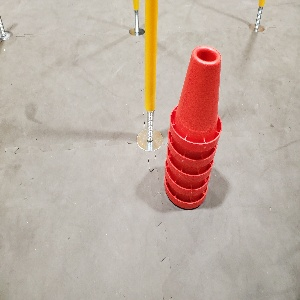Red_5: (163, 44, 221, 210), (164, 123, 170, 126)
